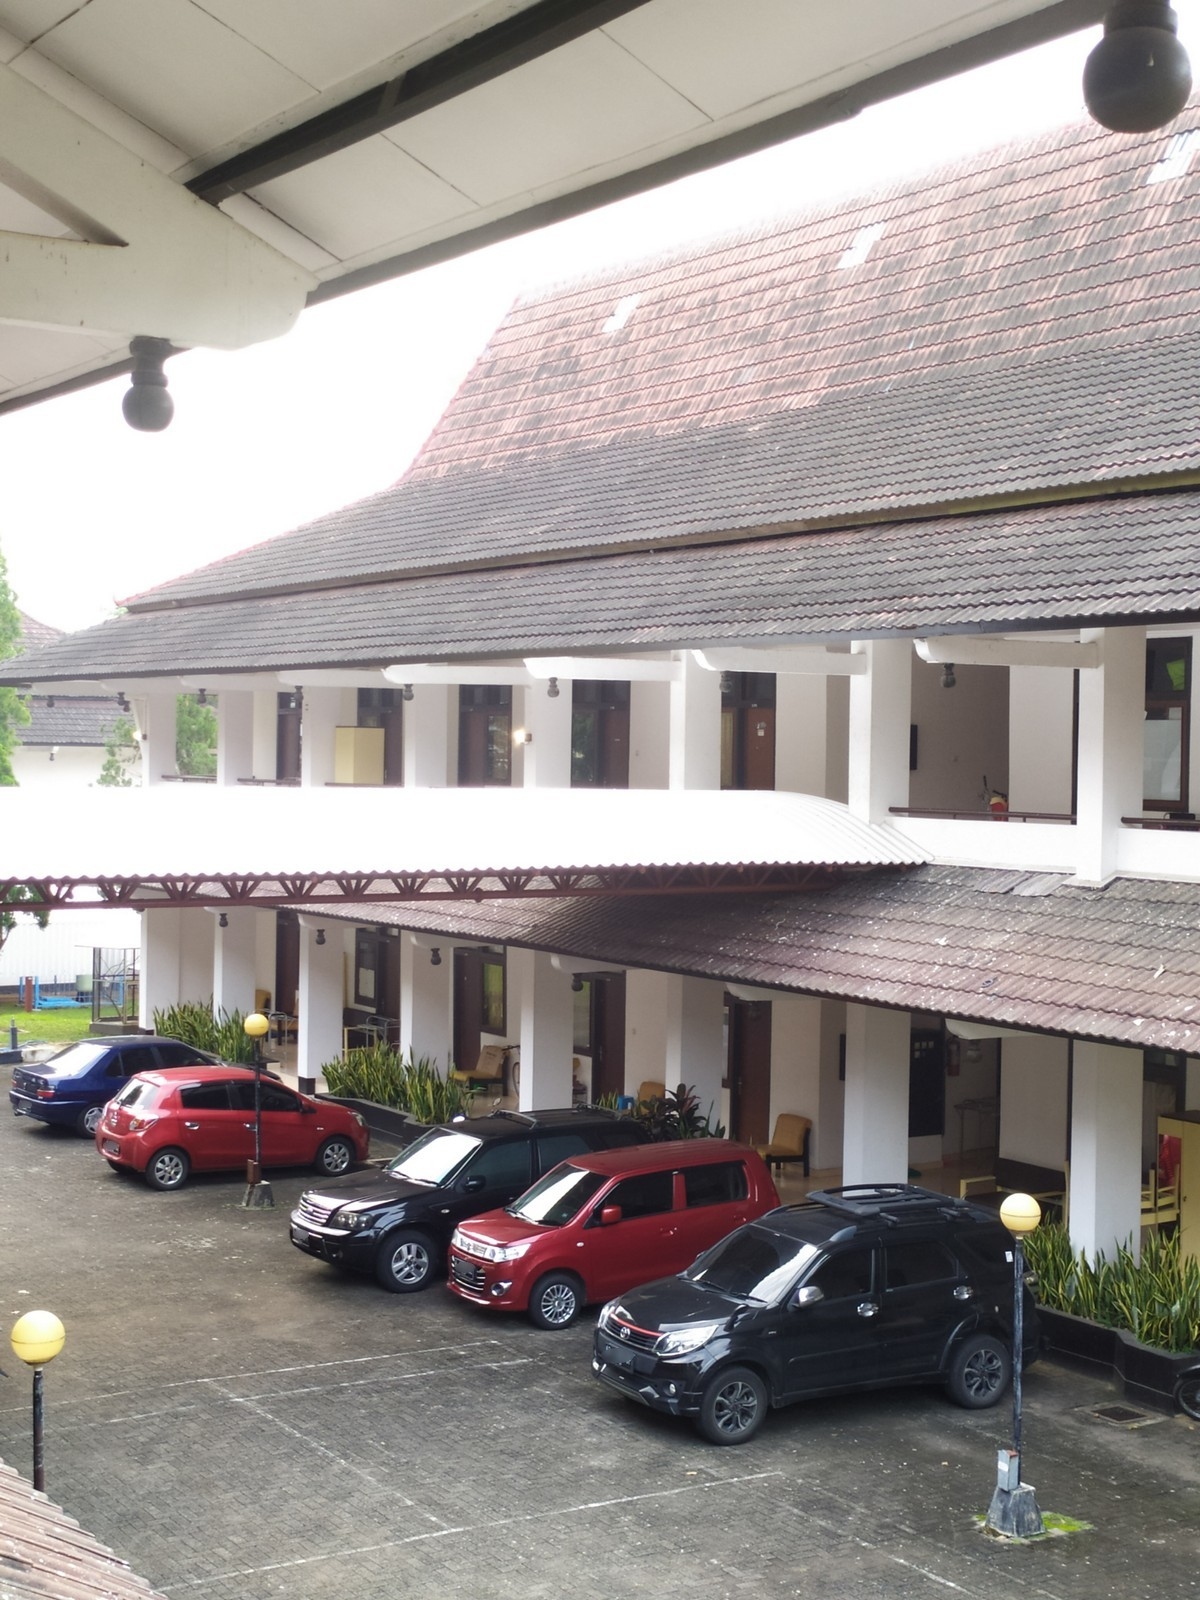concrete column: (1061, 1031, 1155, 1270), (1075, 639, 1150, 894), (834, 998, 918, 1193), (842, 639, 921, 839), (511, 951, 579, 1115), (395, 936, 463, 1089), (294, 922, 354, 1073), (666, 656, 725, 797)
